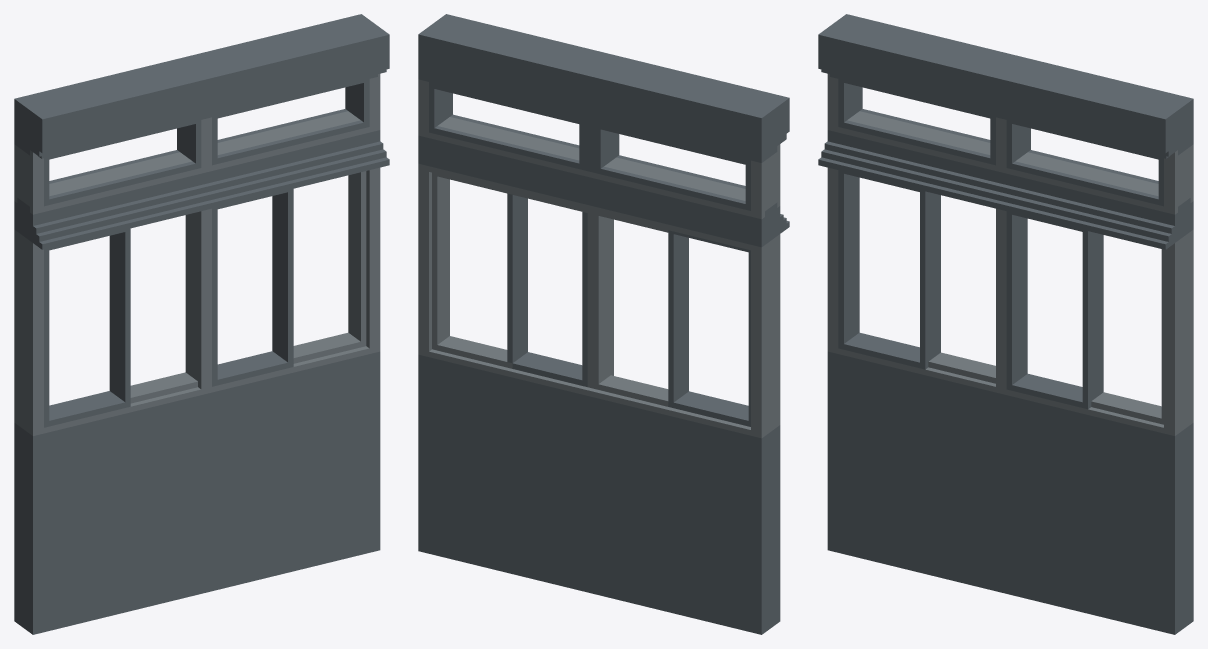
Rendered from lantai_2_corridor_window.obj.
3 renders of one model, left to right at view 1: azimuth 30°, elevation 25°; view 2: azimuth 150°, elevation 25°; view 3: azimuth 330°, elevation 25°, orthographic.
Bounding box in the file's own units: 6.4 × 9.2 × 0.9.
Materials: 1 (1 with a texture image).
